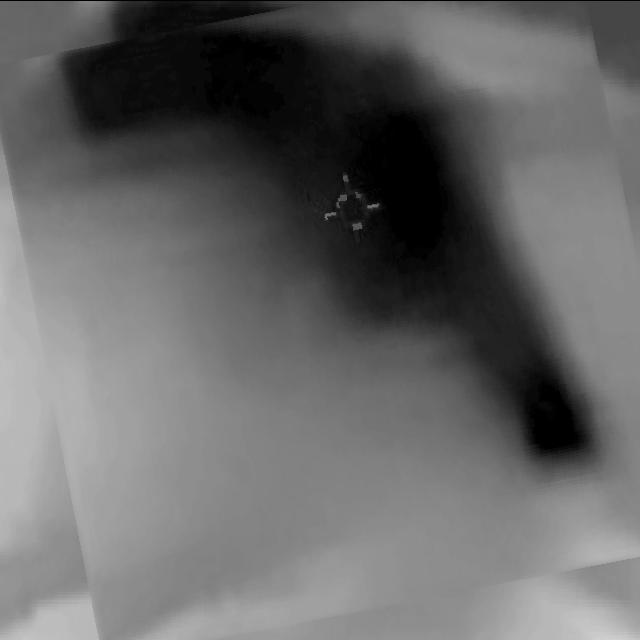Weapon: (13, 0, 640, 635)
